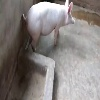heo: (19, 1, 81, 52)
